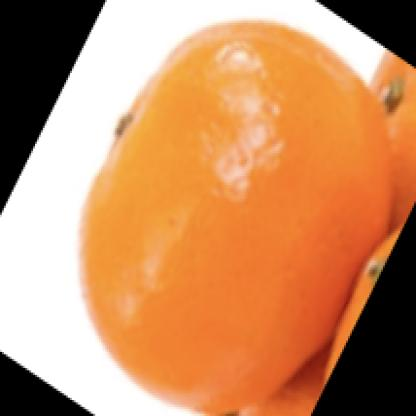fresh: (78, 22, 400, 416)
